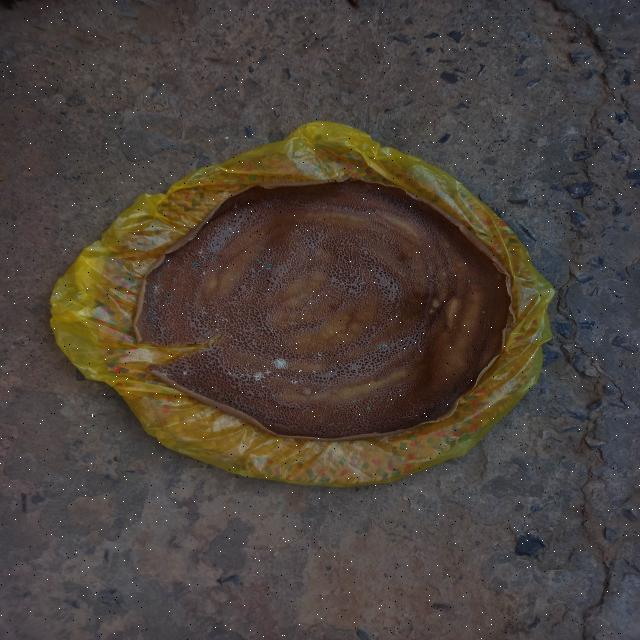injera_mold: (224, 361, 269, 388), (148, 283, 165, 308), (271, 358, 292, 370), (310, 350, 328, 361), (399, 414, 422, 422), (148, 310, 160, 324), (215, 315, 230, 325), (156, 369, 173, 377), (199, 306, 209, 317), (289, 379, 301, 384), (378, 344, 387, 350), (191, 262, 199, 268), (264, 264, 272, 270), (199, 271, 207, 277), (197, 251, 206, 256), (365, 406, 371, 413), (156, 272, 163, 278), (256, 258, 263, 264), (297, 368, 305, 373), (182, 372, 190, 376), (167, 295, 173, 300), (265, 204, 272, 208), (215, 327, 219, 332), (363, 198, 368, 202), (312, 370, 318, 373), (213, 256, 218, 259), (258, 248, 265, 250)
